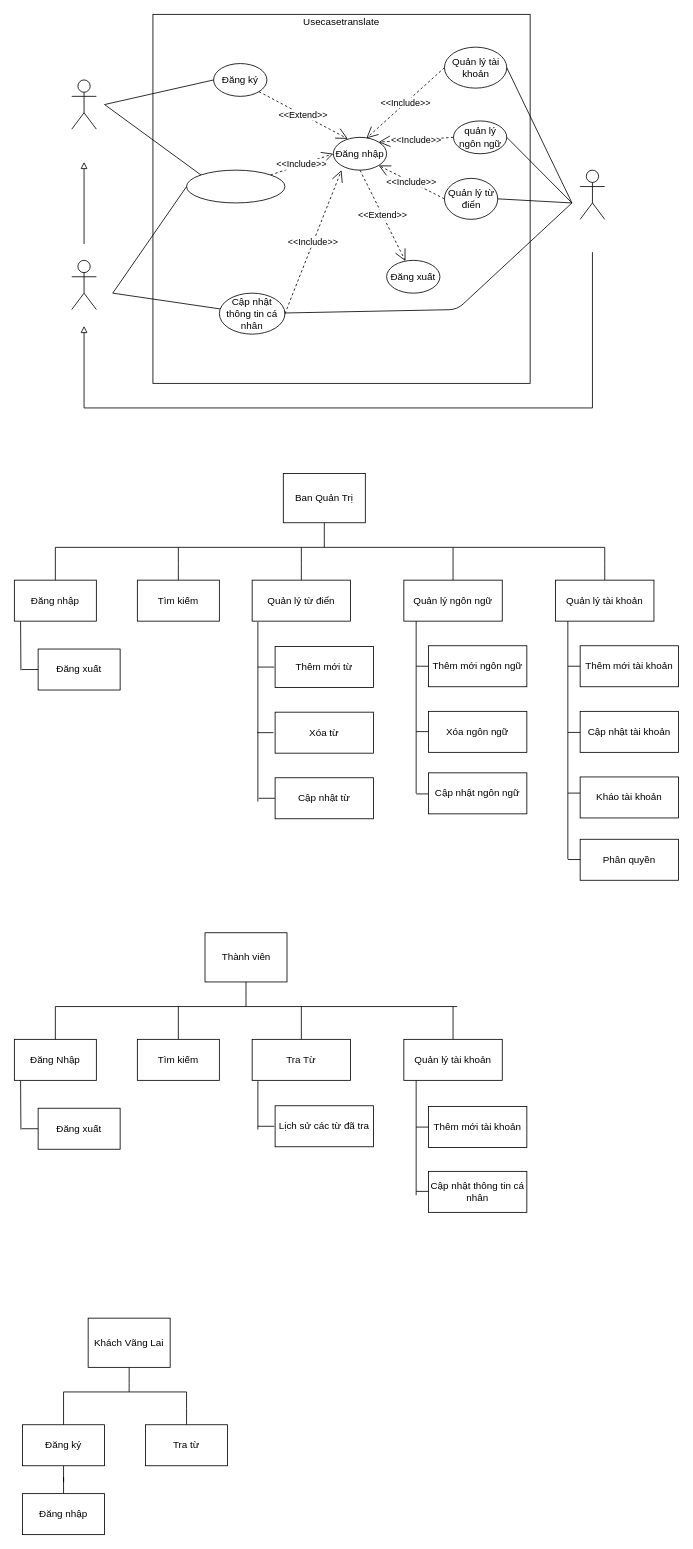
Some shapes in this 693 by 1549 pixel diagram are drawn without their labels. The shapes that lost their labels are listed below. From the top down, each one's centre as x and y in pixels, then its label:
At (83,104): "Khach".
At (235,186): "Tra cứu từ".
At (592,194): "BanQuanTri".
At (83,285): "ThanhVien".
